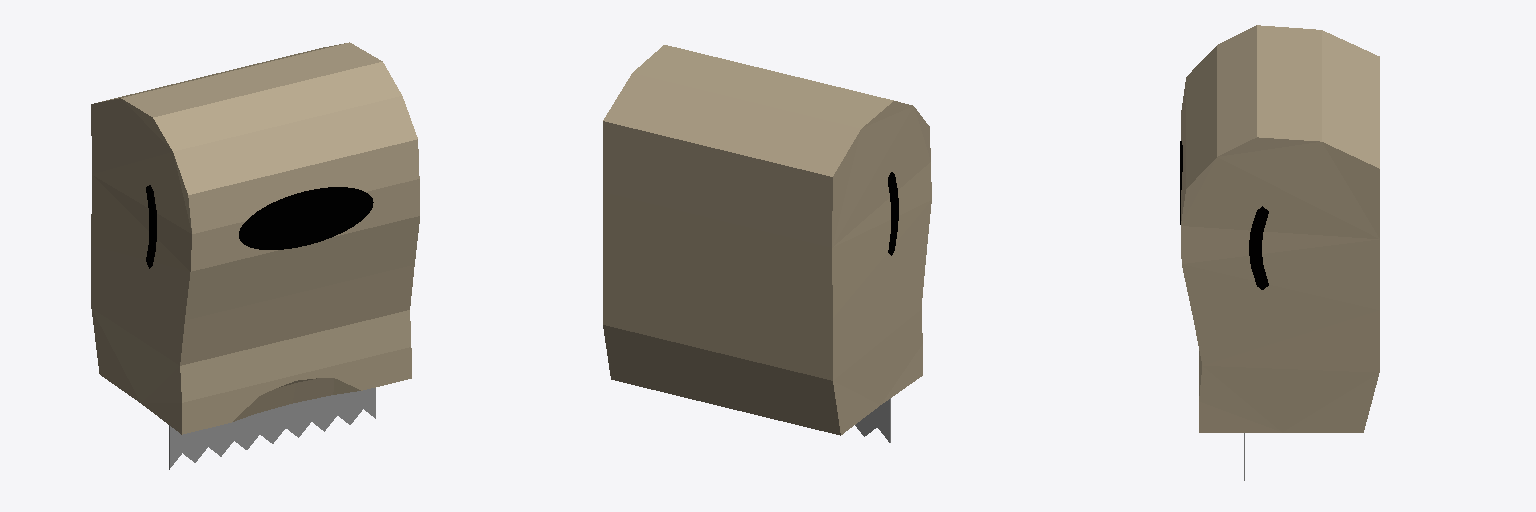
Rendered from dispenser.obj.
The picture shows the model from 3 angles: view 1: azimuth 30°, elevation 25°; view 2: azimuth 150°, elevation 25°; view 3: azimuth 270°, elevation 25°; orthographic projection.
Parts seen in each view (by area): view 1: Cube, Cylinder.001, Plane, Cube.003_Cube.004; view 2: Cube, Plane, Cube.003_Cube.004; view 3: Cube, Cube.004_Cube.005.
Boxes of the visible parts, x1,y1,x2,y2 form: Cube: [91, 42, 419, 434]; Cylinder.001: [239, 187, 373, 249]; Plane: [169, 388, 375, 469]; Cube.003_Cube.004: [146, 185, 156, 268]; Cube: [603, 45, 931, 435]; Plane: [855, 398, 890, 442]; Cube.003_Cube.004: [888, 172, 898, 255]; Cube: [1181, 25, 1379, 432]; Cube.004_Cube.005: [1249, 206, 1268, 289].
Size of the model in its own units: 0.6012 by 0.8697 by 0.4514.